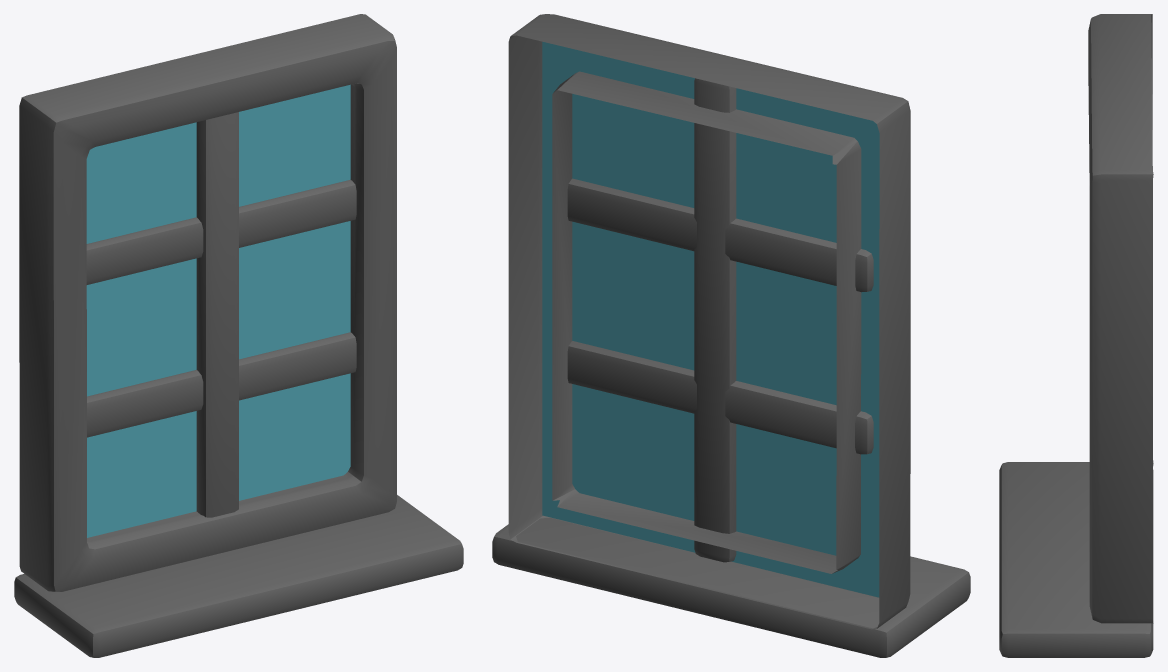
File: SM_window_04.fbx
3 views of the same model, side by side, from view 1: azimuth 30°, elevation 25°; view 2: azimuth 150°, elevation 25°; view 3: azimuth 270°, elevation 25° (orthographic). The views are drawn at different scales.
Visible parts, largest first — view 1: Object032; view 2: Object032; view 3: Object032.
Boxes of the visible parts, box(x1,y1,x2,y2) form: Object032: box(14, 14, 463, 657); Object032: box(492, 14, 970, 657); Object032: box(999, 14, 1153, 657).
Bounding box in the file's own units: 38.54 × 49.62 × 14.46.
